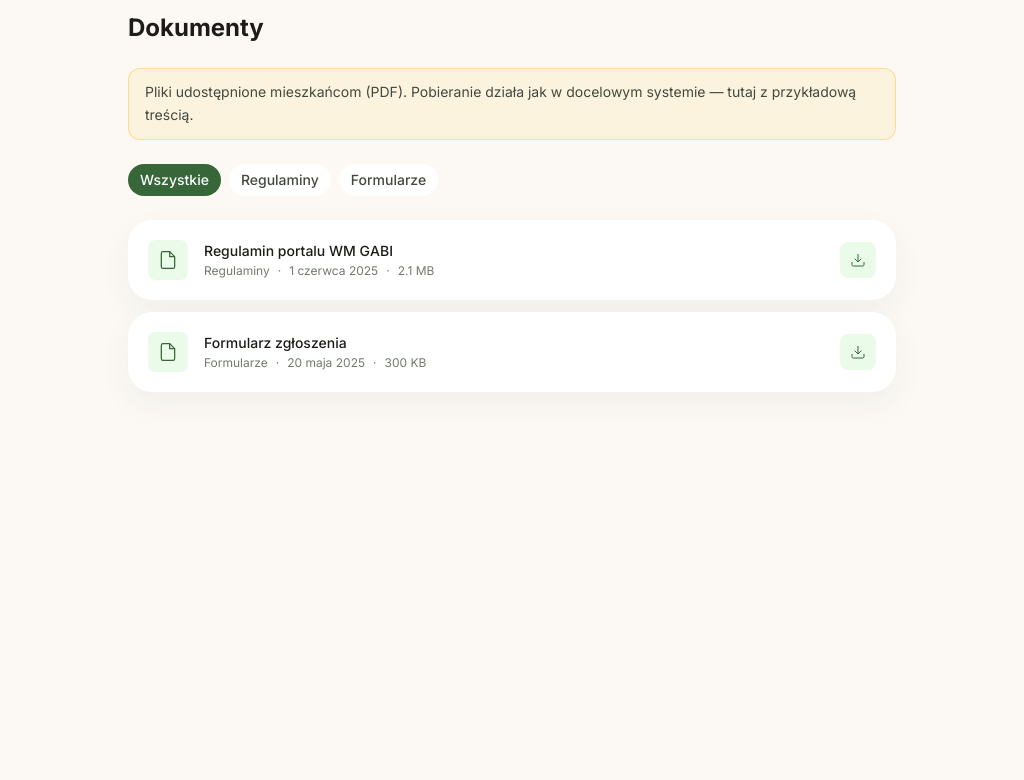
Test case: Resident DocumentsPage › pokazuje toast przy błędzie pobierania
Expected: the heading "Regulamin portalu WM GABI" is shown, [204,242,393,258]
Click the button titled "Pobierz" in the row of "2.1 MB" at [858, 260], box [840,242,876,278]
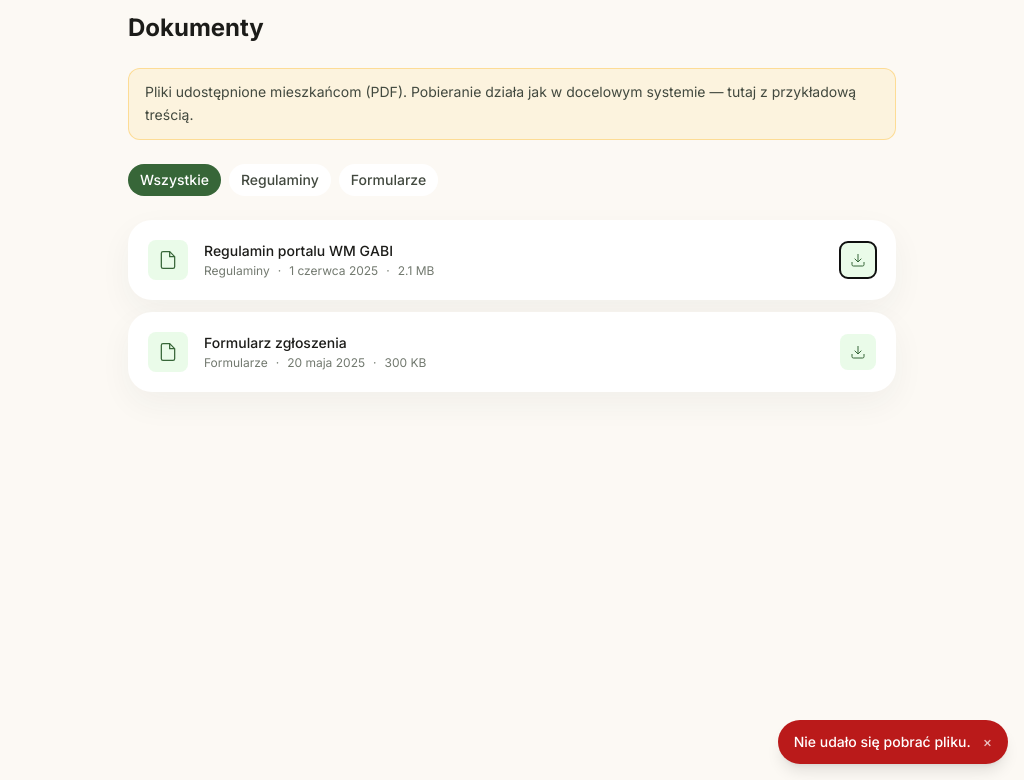
Expected: the text "Nie udało się pobrać pliku." is shown, [794,732,971,752]
